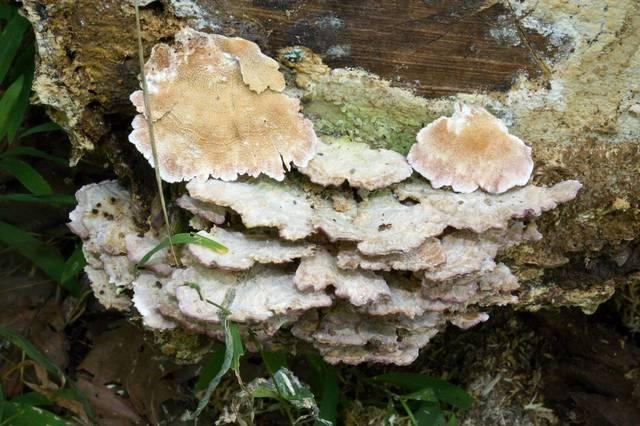poisonous_mushroom: (54, 144, 619, 373), (127, 25, 318, 184), (406, 100, 534, 194)
